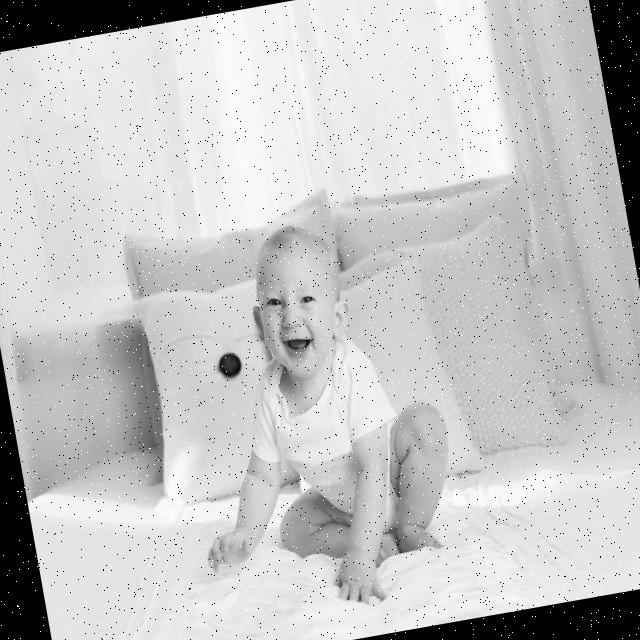Happiness: (246, 244, 348, 388)
